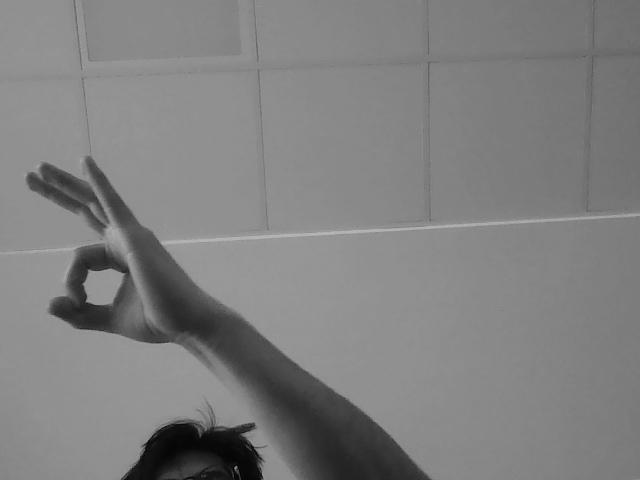OK: (29, 153, 220, 355)
